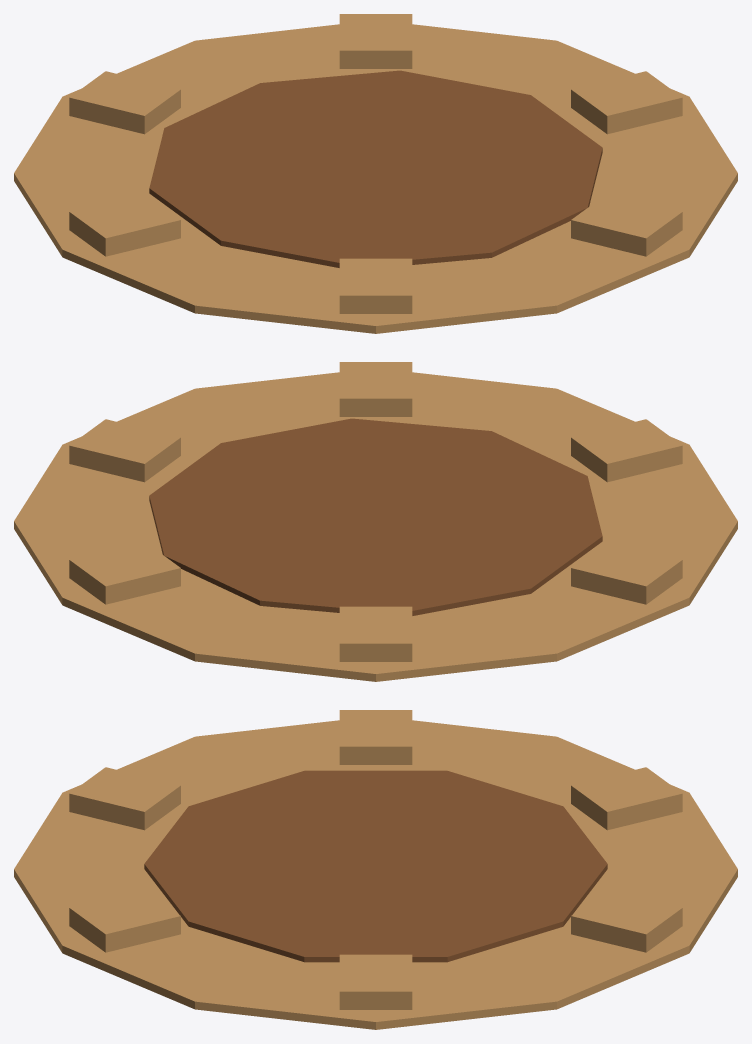
Rendered from DigHole.fbx.
3 renders of one model, top to bottom at view 1: azimuth 30°, elevation 25°; view 2: azimuth 150°, elevation 25°; view 3: azimuth 270°, elevation 25°, orthographic.
Parts seen in each view (by area): view 1: DigHole; view 2: DigHole; view 3: DigHole.
Boxes of the visible parts, bbox=[...] form: DigHole: bbox=[14, 14, 737, 333]; DigHole: bbox=[14, 362, 737, 681]; DigHole: bbox=[14, 710, 737, 1029].
Bounding box in the file's own units: 5 × 0.2 × 5.
